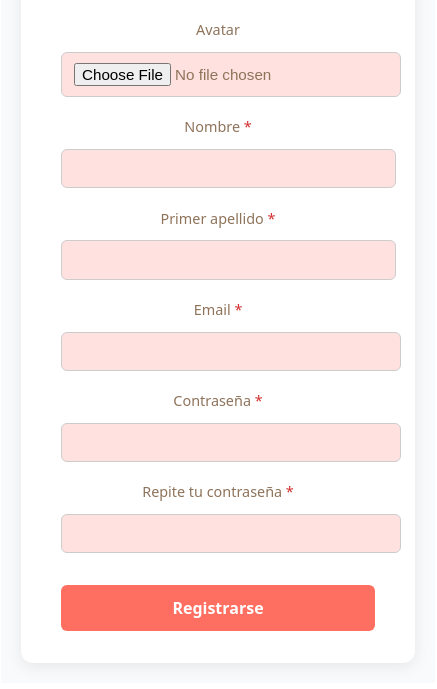
Scenario: RegistrationPage Component › debería validar que las contraseñas coincidan
(page scrolled)
In the 1st password field: (231, 442) [61,422,401,462], type "Password123!"
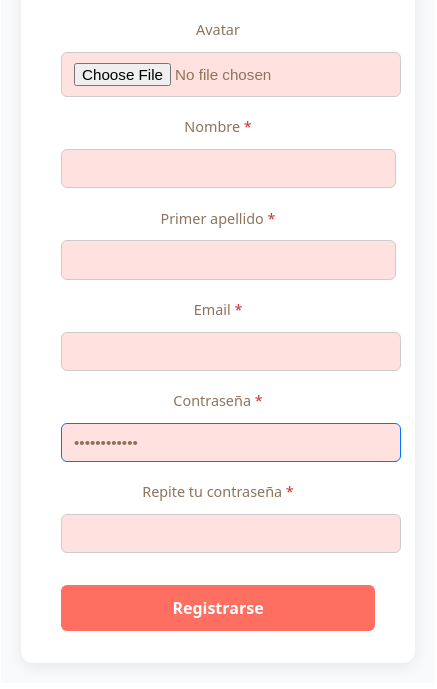
In the password field below "Repite tu contraseña": (231, 533) [61,514,401,552], type "Password456!"
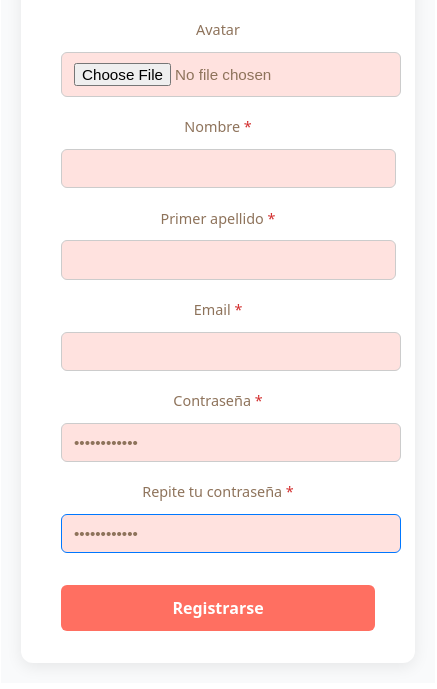
Click the button "Registrarse": (218, 608) [61,584,375,630]
(page scrolled)
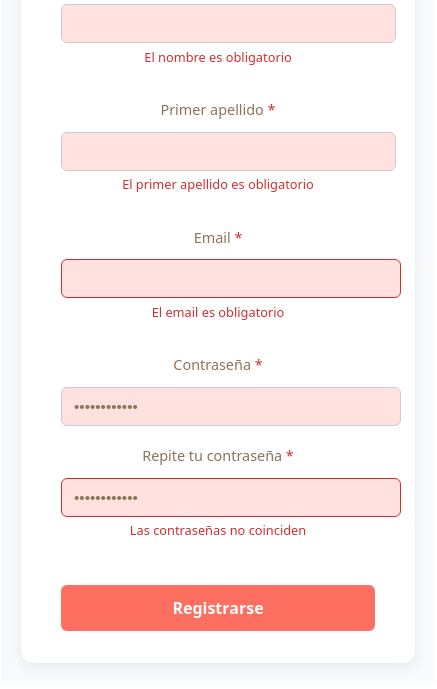
Check: the text "Las contraseñas no coinciden" is shown, box [130,521,306,539]
